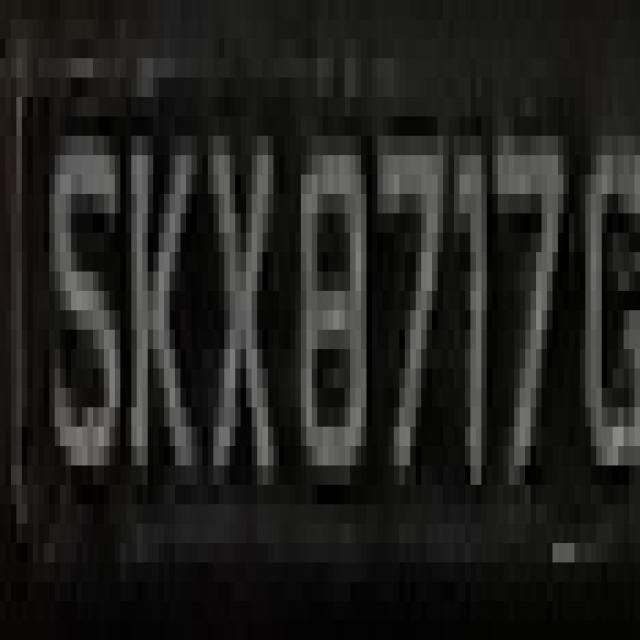1: (427, 39, 498, 601)
7: (470, 117, 569, 504), (356, 97, 438, 543)
8: (284, 58, 372, 543)
G: (569, 78, 640, 543)
K: (115, 39, 202, 543)
S: (44, 58, 126, 504)
X: (192, 78, 274, 562)
